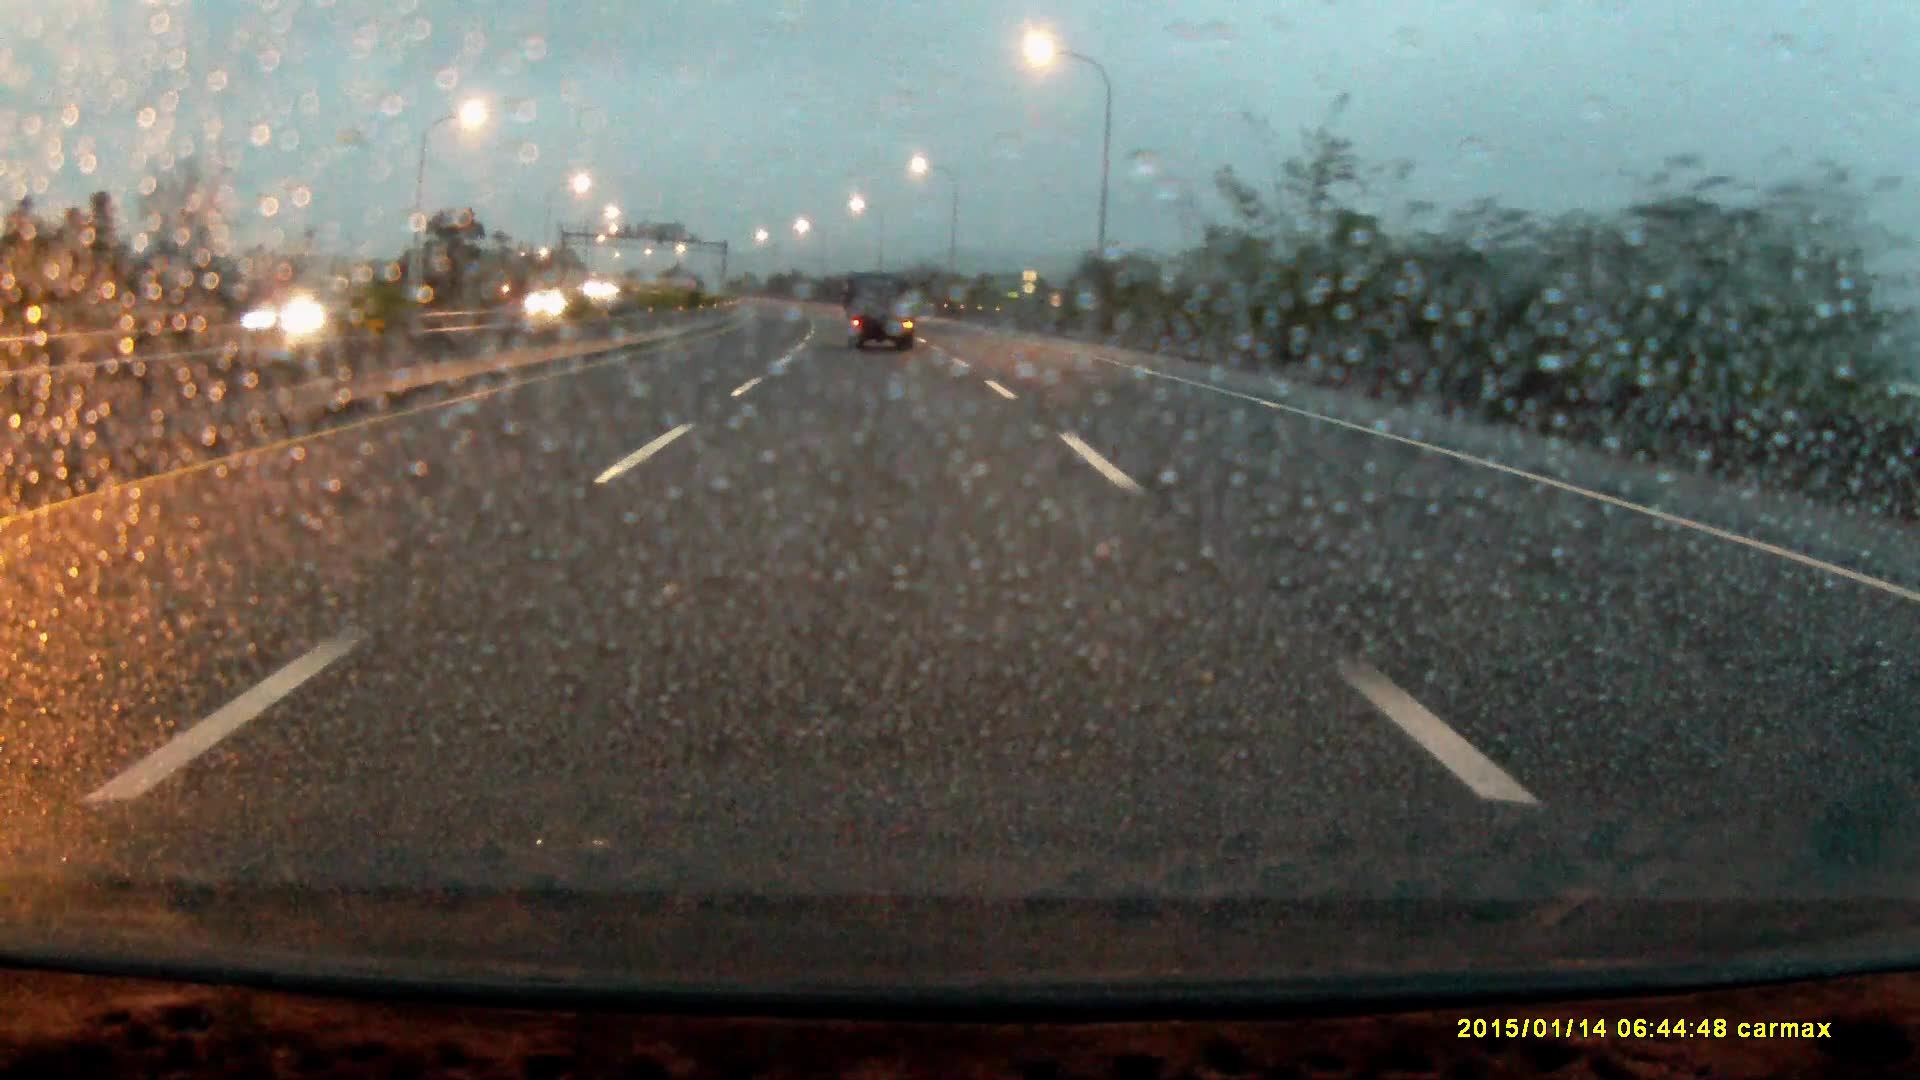vehicle: (237, 289, 375, 344), (843, 274, 916, 352)
